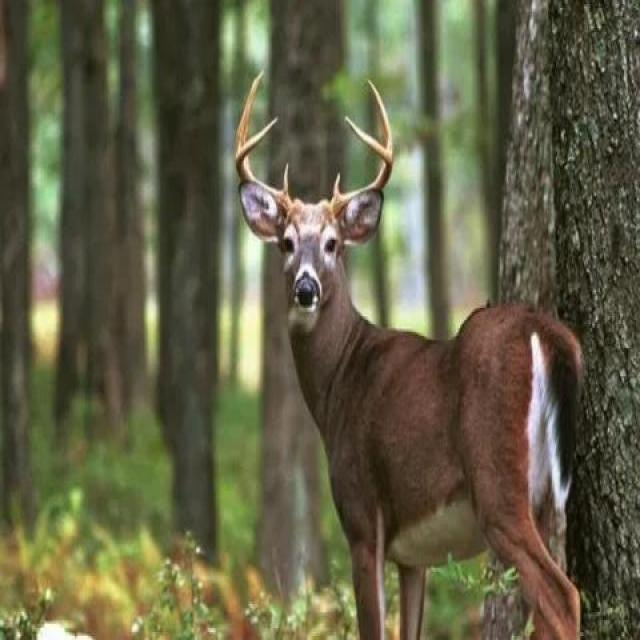deer: (250, 149, 570, 615)
